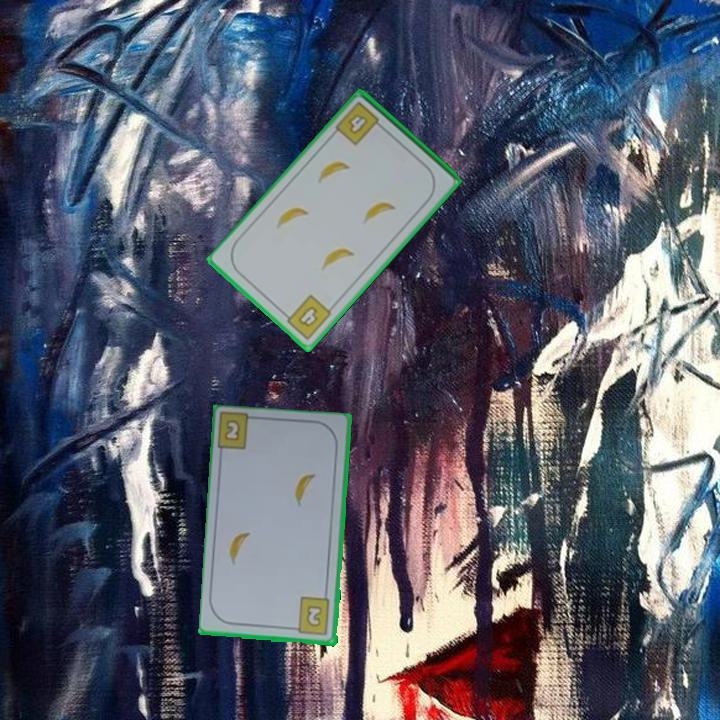2b: (289, 595, 333, 638), (221, 416, 243, 444)
4b: (279, 291, 335, 343), (332, 98, 387, 149)
